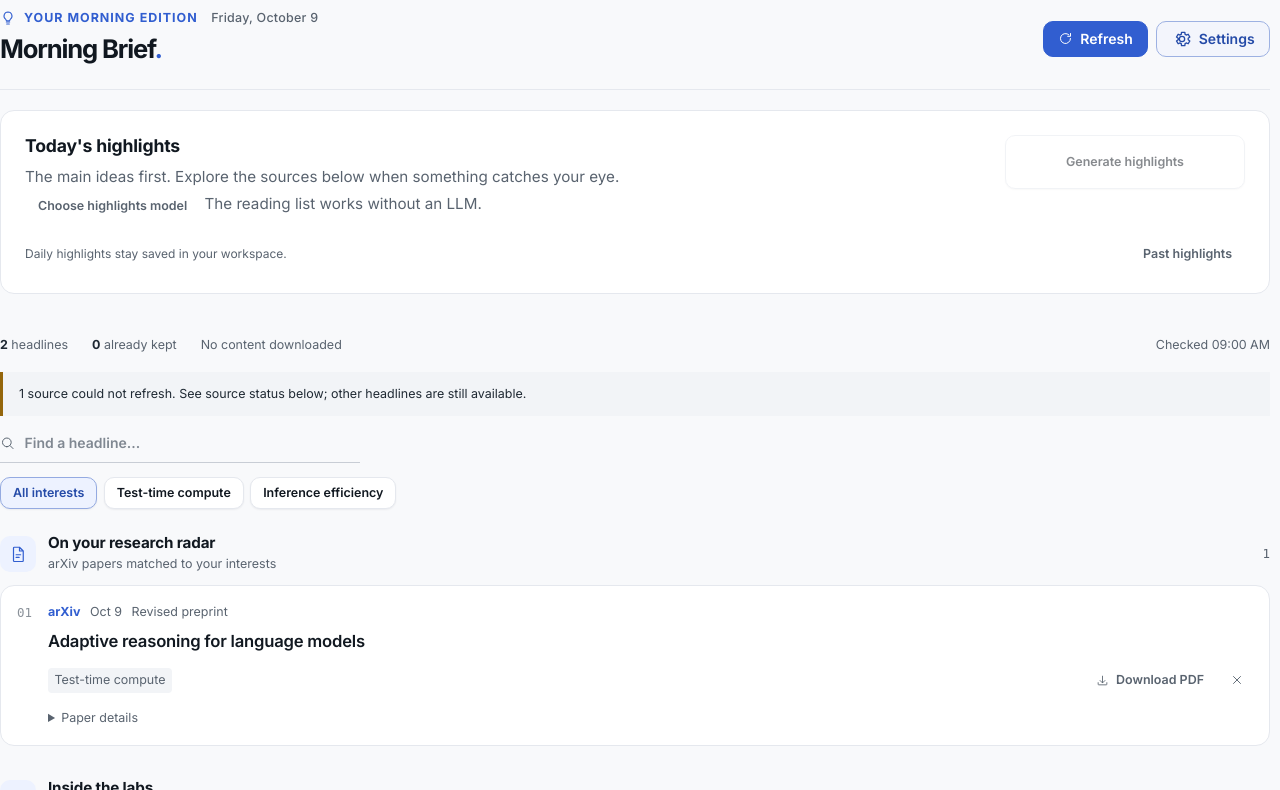
Test: fetches headlines only when there is no daily edition and reuses it after navigation
What coordinates should you click on to do the following:
click the button with aria-label "Brief settings"
I would click on:
 (1213, 38)
Its box is [1156,20,1270,56].
(page scrolled)
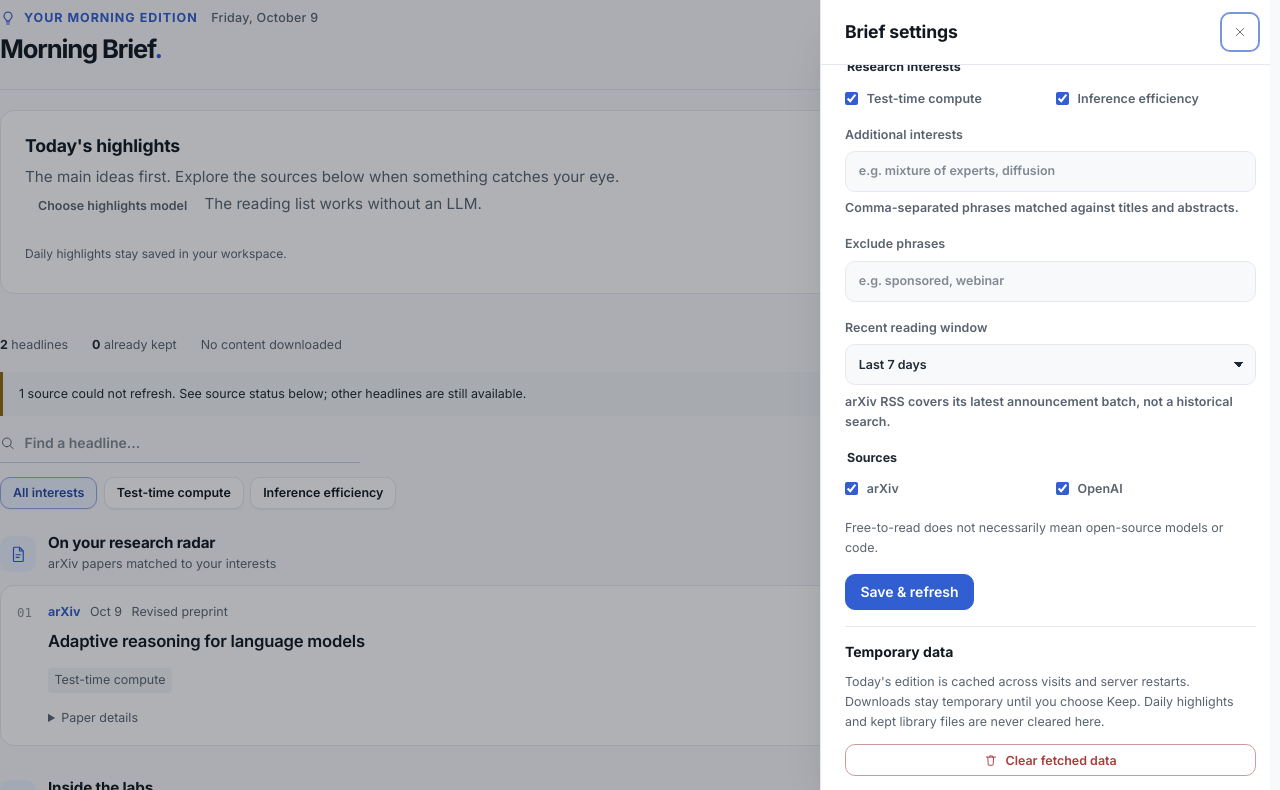
What coordinates should you click on to do the following:
click the button "Clear fetched data"
I would click on:
 (1050, 760)
Its box is [845,744,1256,776].
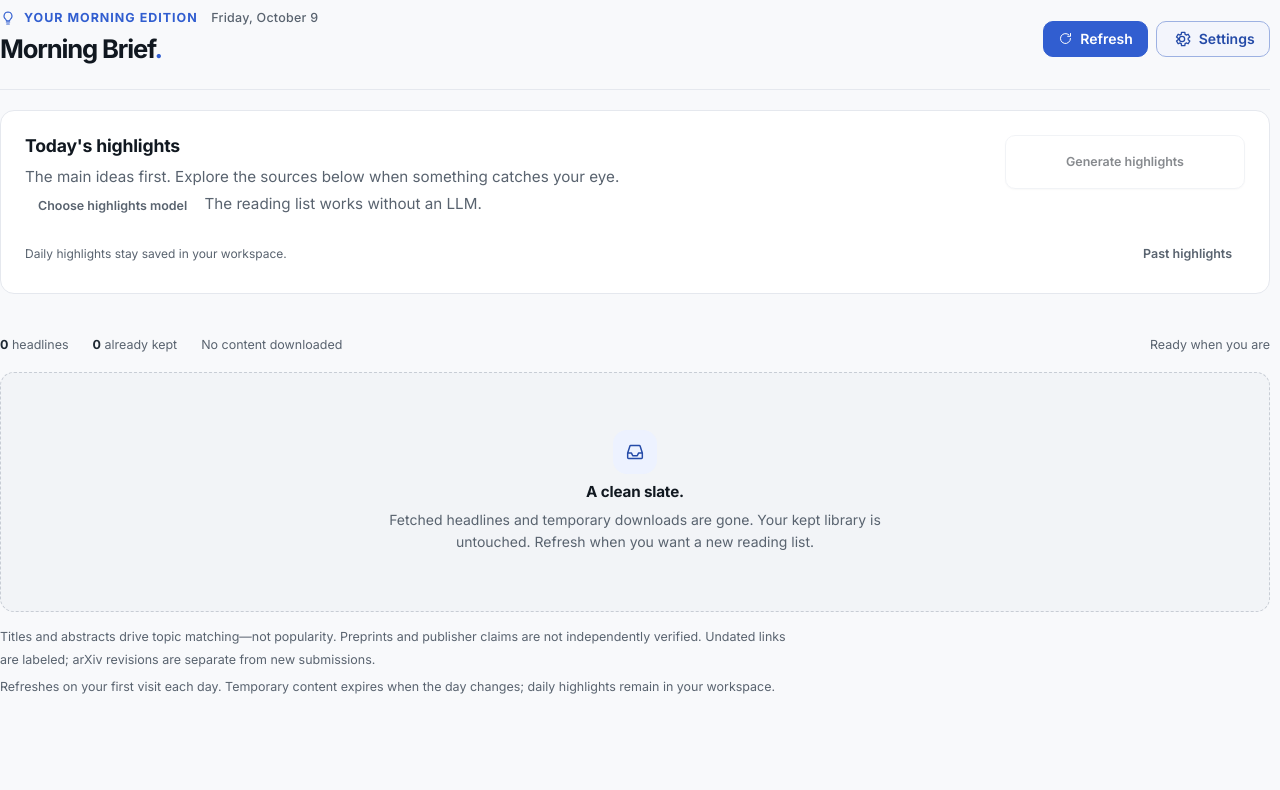
Expected: the text "A clean slate." is shown, [586,482,684,501]
